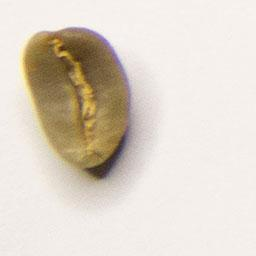longberry: (19, 22, 137, 175)
